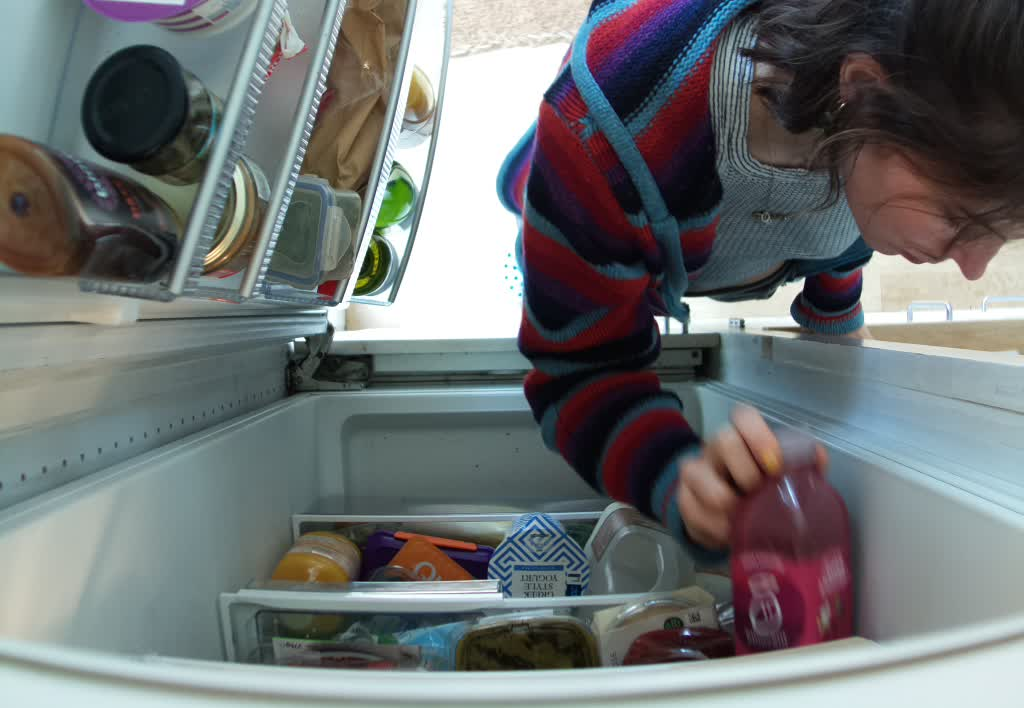juice: (726, 422, 863, 645)
